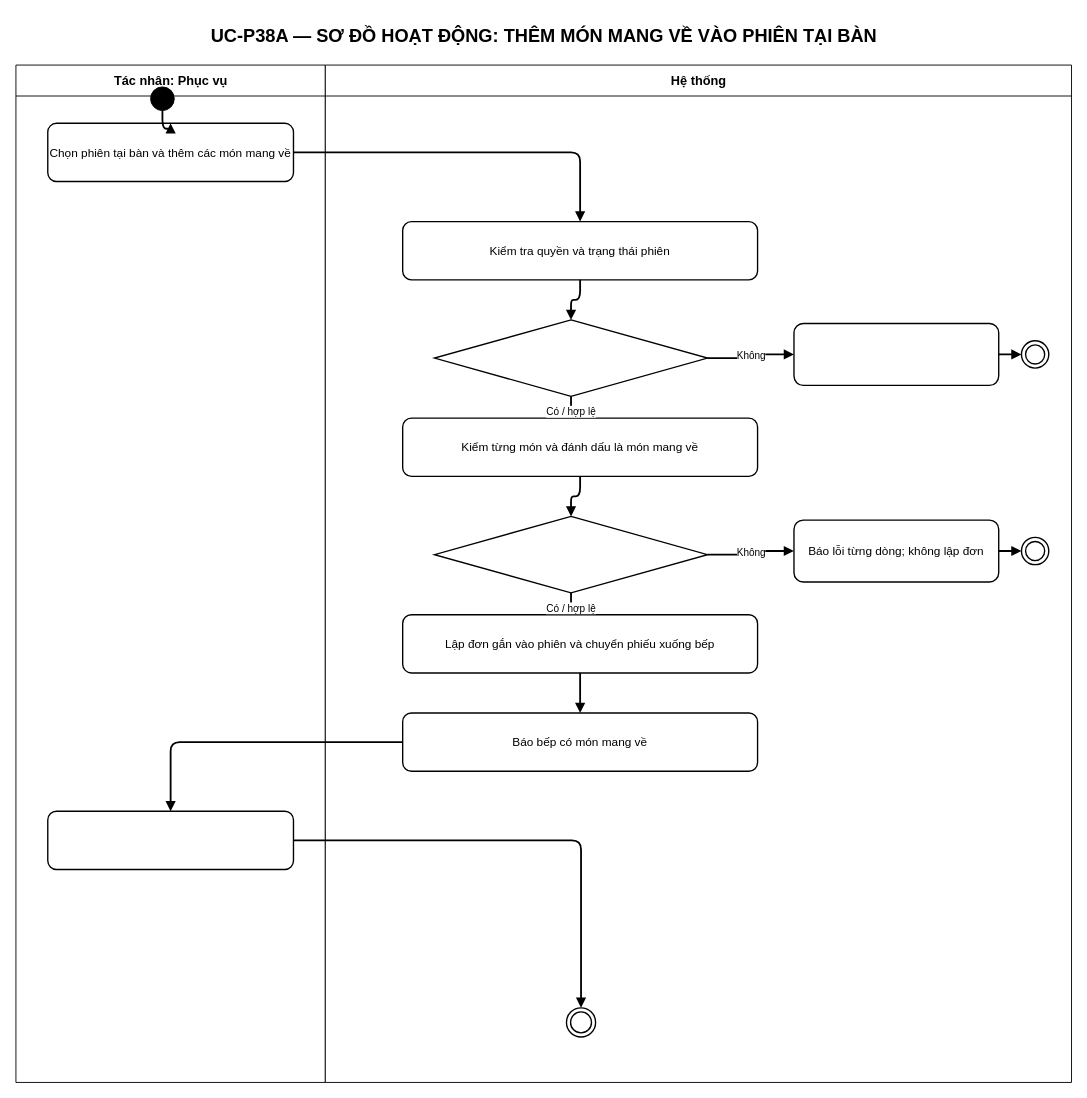
Image size: 1087x1098. Some labels were removed from this diagram. Here are the shapes that lost their labels. From the top down, the centre of each, then its label:
pixel 570 358: Phiên đang phục vụ?
pixel 896 354: Từ chối thêm món vào phiên chờ thanh toán hoặc đã đóng
pixel 570 554: Mọi món hợp lệ?
pixel 170 840: Nhận đơn và tổng mới của phiên
